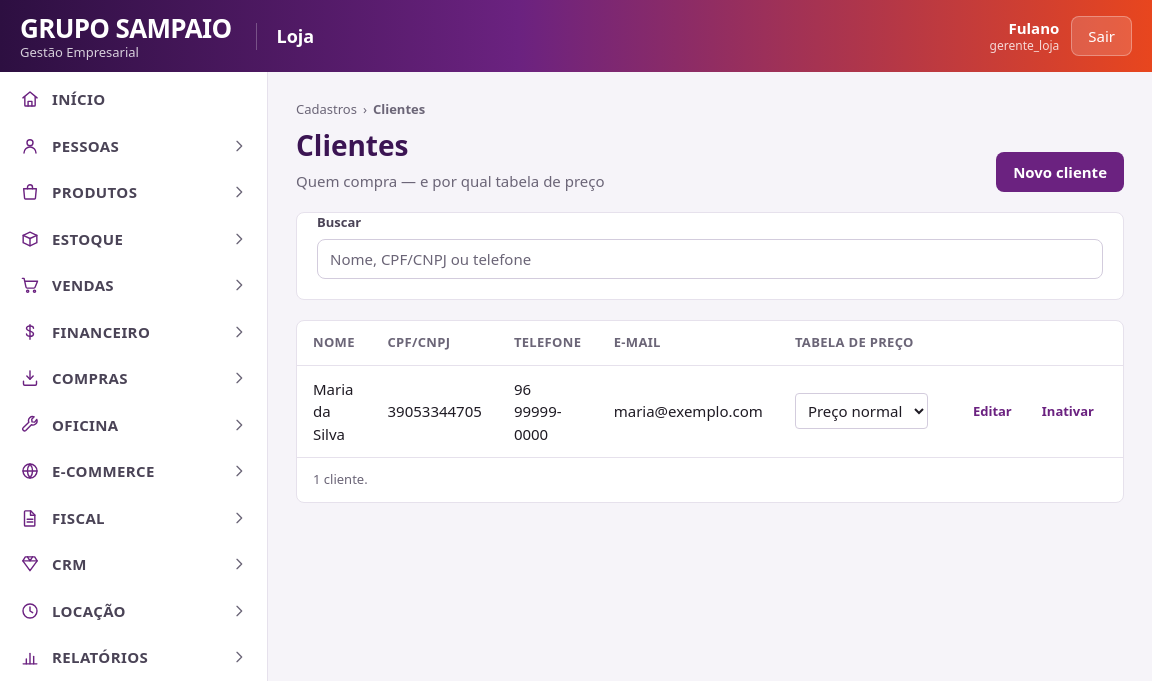
Test: anonimizar › pede motivo e confirmação; depois a ficha fecha e a lista reflete
The image size is (1152, 681).
Click the button with aria-label "Editar cadastro de Maria da Silva". click: (992, 411)
box: top-left (960, 394), bottom-right (1025, 428)
(page scrolled)
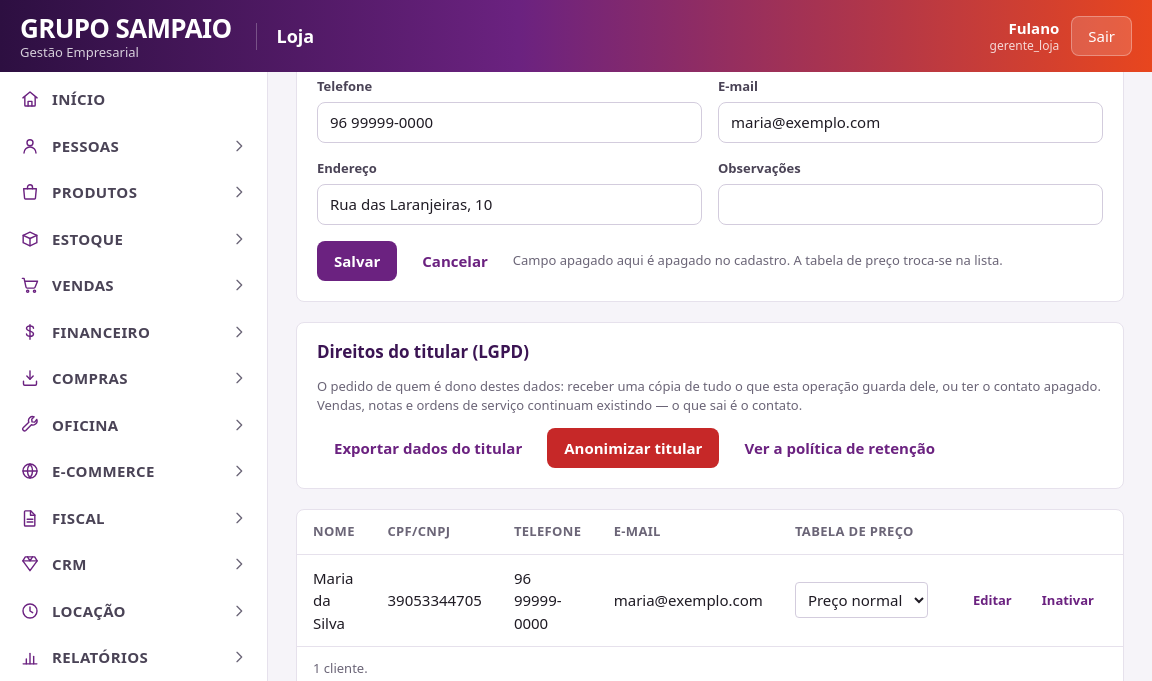
Expected: the field labelled "Telefone" holds "96 99999-0000", top-left (317, 102), bottom-right (702, 142)
Click the button "Anonimizar titular". click: (633, 448)
box: top-left (547, 428), bottom-right (719, 468)
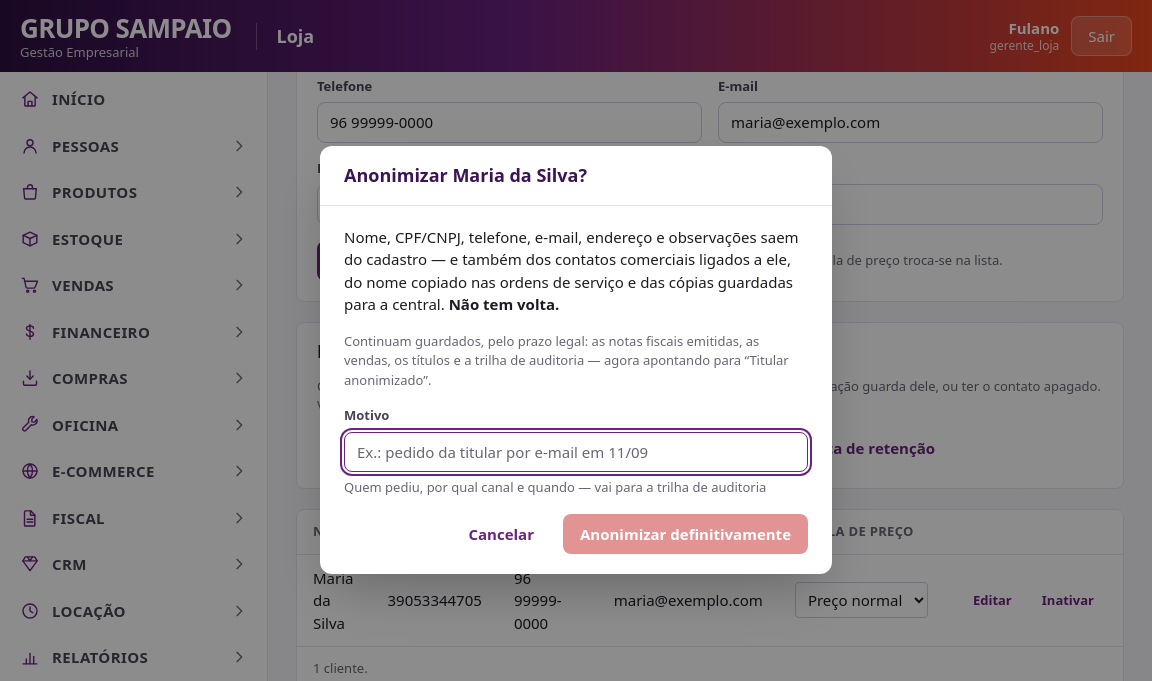
Expected: the button "Anonimizar definitivamente" is disabled, top-left (563, 514), bottom-right (808, 554)
Type "curto" into the field labelled "Motivo". click: (576, 452)
box: top-left (344, 432), bottom-right (808, 472)
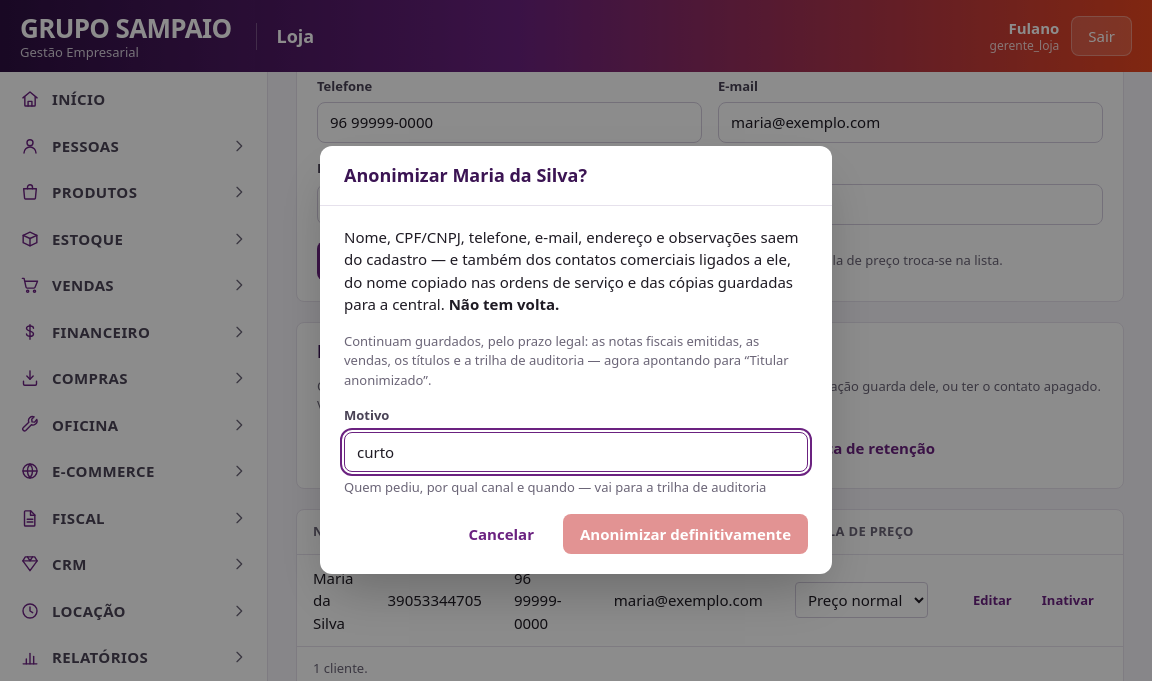
Expected: the button "Anonimizar definitivamente" is disabled, top-left (563, 514), bottom-right (808, 554)
Replace the text in the field labelled "Motivo" with "Pedido da titular por e-mail em 11/09/2026". click: (576, 452)
box: top-left (344, 432), bottom-right (808, 472)
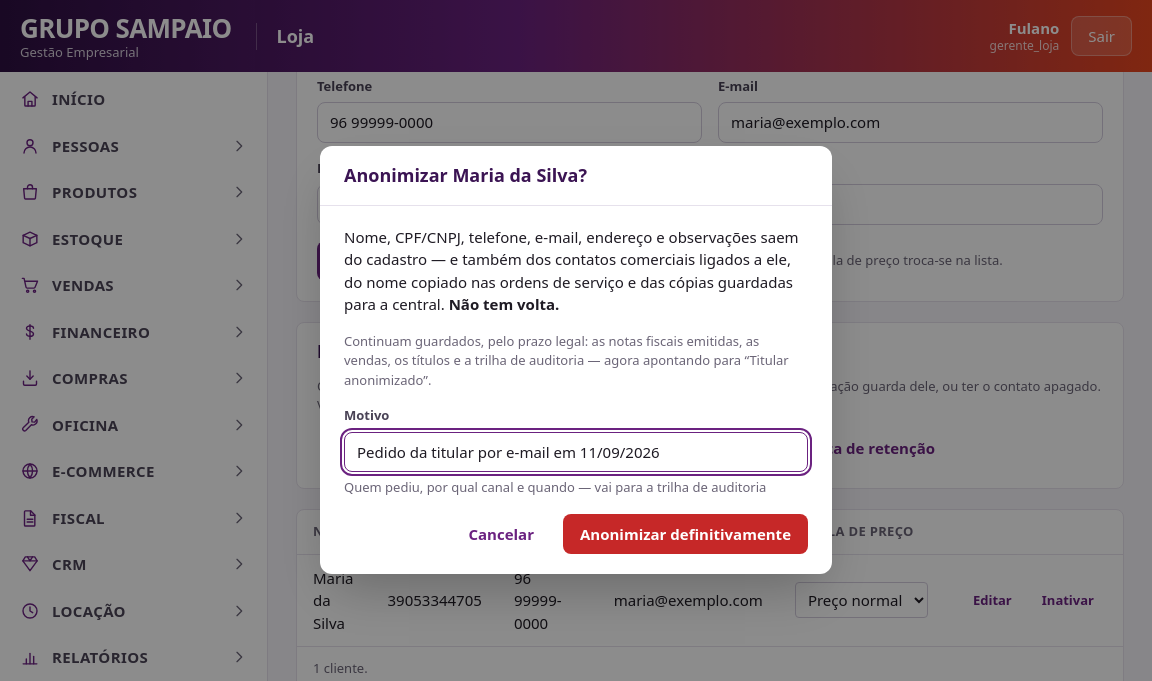
Expected: the button "Anonimizar definitivamente" is enabled
Click the button "Anonimizar definitivamente". click: (686, 534)
box: top-left (563, 514), bottom-right (808, 554)
(page scrolled)
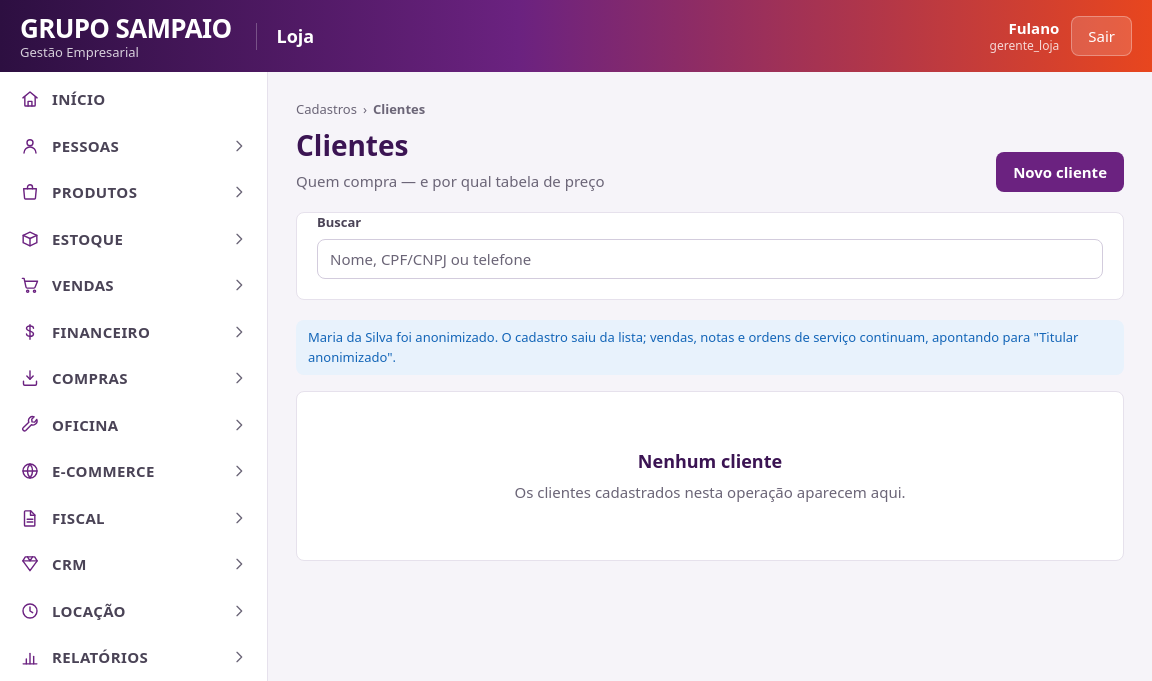
Expected: the text "Maria da Silva foi anonimizad" is shown, top-left (308, 328), bottom-right (1078, 366)
